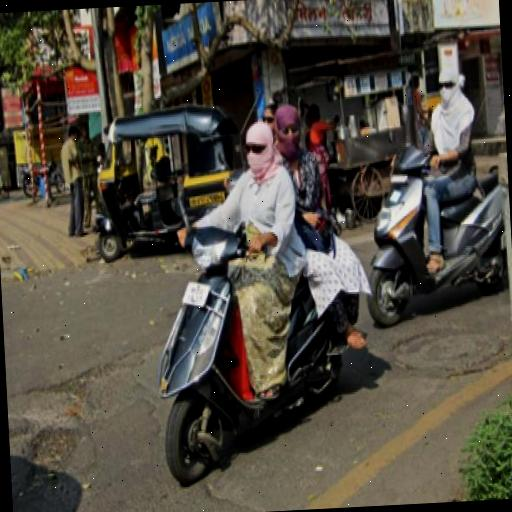no helmet: (133, 100, 312, 472), (362, 57, 496, 322)
